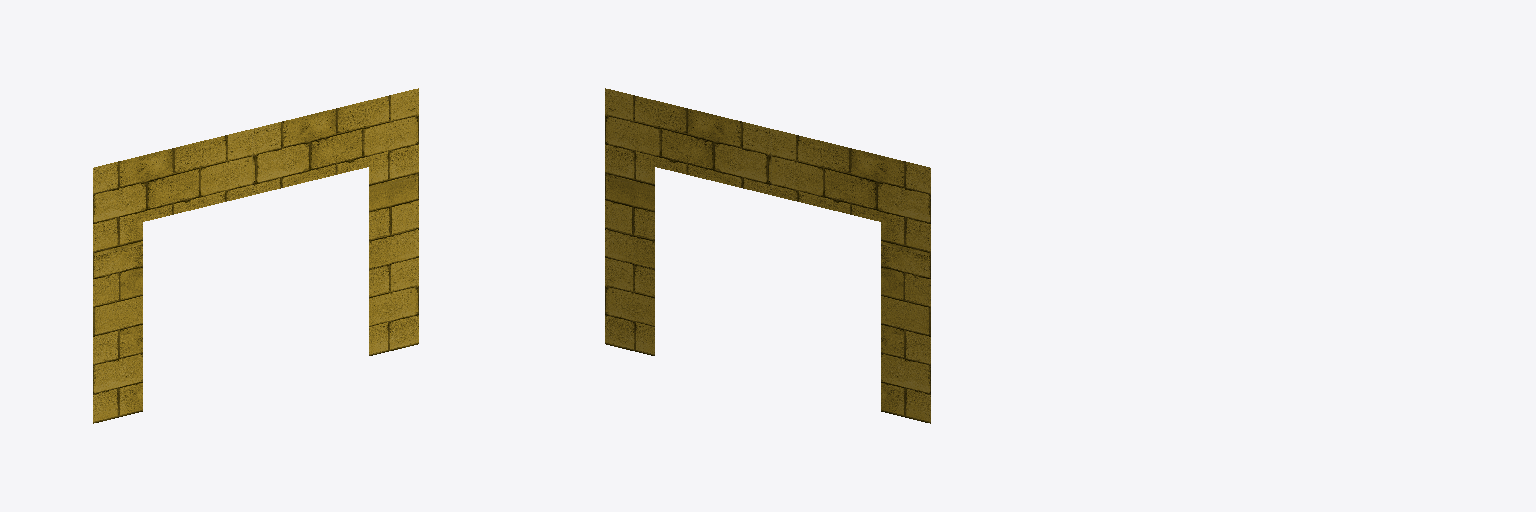
3 views of the same model, side by side, from view 1: azimuth 30°, elevation 25°; view 2: azimuth 150°, elevation 25°; view 3: azimuth 270°, elevation 25° (orthographic).
Parts seen in each view (by area): view 1: brick_wall_big_doorway; view 2: brick_wall_big_doorway; view 3: none.
Boxes of the visible parts, x1,y1,x2,y2 form: brick_wall_big_doorway: [93, 88, 418, 423]; brick_wall_big_doorway: [605, 88, 930, 423].
Size of the model in its own units: 400 by 300 by 0.
Materials: 1 (1 with a texture image).